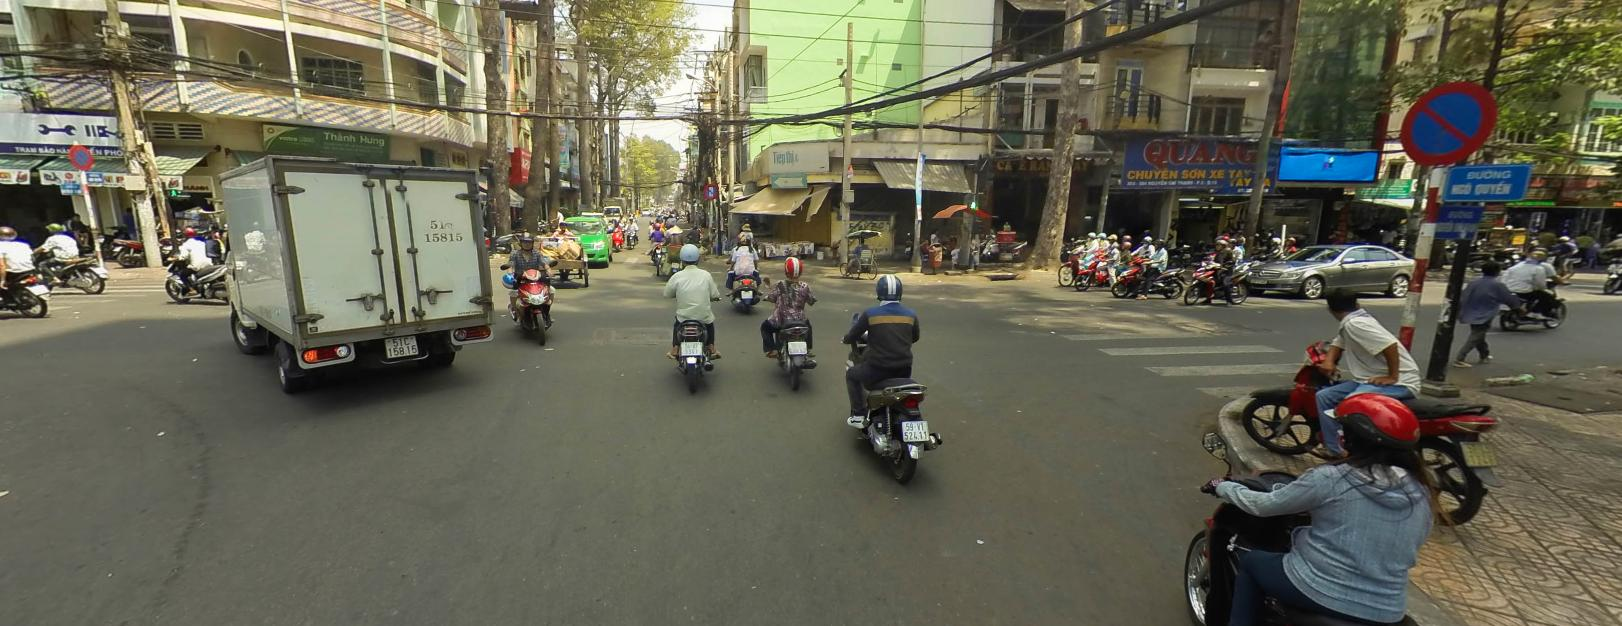Cam dung va do: (1396, 80, 1497, 165), (68, 144, 93, 168), (703, 182, 718, 198)
